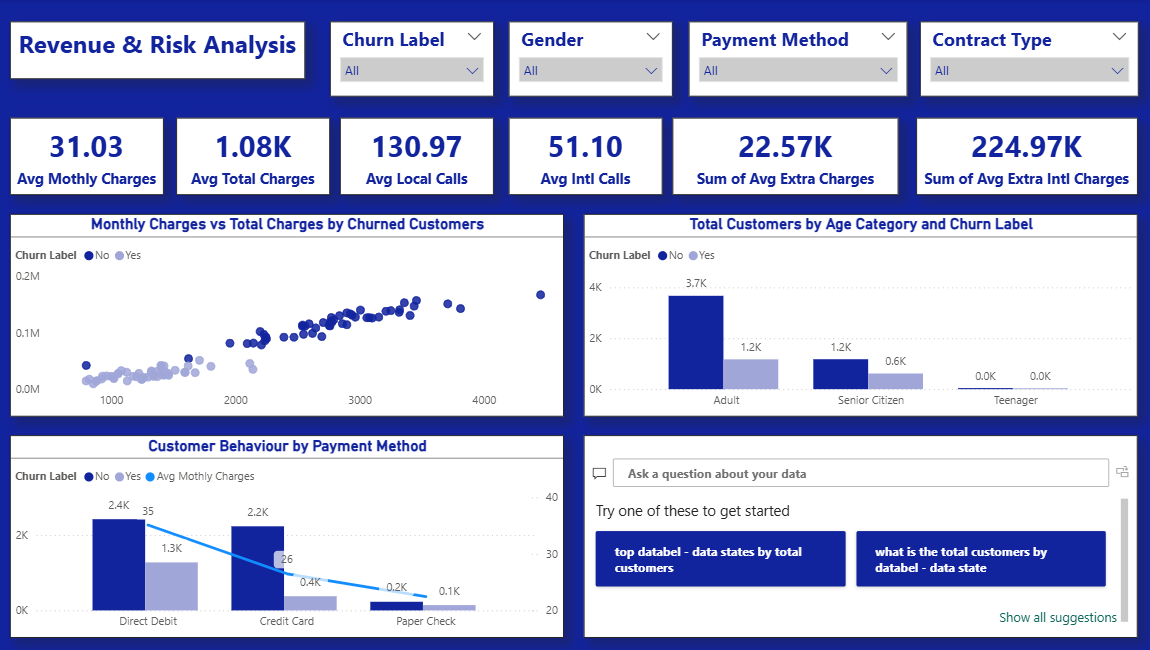

The page's visual inventory and layout, read from the dashboard file:
{"tool":"powerbi","page":{"name":"Revenue & Risk Analysis","canvas":[1280,720],"ordinal":2},"visuals":[{"type":"textbox","box":[22,24.7,323.8,63.1],"z":0},{"type":"slicer","fields":{"Values":["Databel - Data.Churn Label"]},"box":[373.2,24.7,179.8,82.3],"z":1000},{"type":"slicer","fields":{"Values":["Databel - Data.Gender"]},"box":[569.5,24.7,179.8,82.3],"z":2000},{"type":"slicer","fields":{"Values":["Databel - Data.Payment Method"]},"box":[767.1,24.7,240.1,82.3],"z":3000},{"type":"slicer","fields":{"Values":["Databel - Data.Contract Type"]},"box":[1020.9,24.7,240.1,82.3],"z":4000},{"type":"card","fields":{"Values":["Databel - Data.Avg Mothly Charges"]},"box":[22,130.4,168.8,85.1],"z":5000},{"type":"card","fields":{"Values":["Databel - Data.Avg Total Charges"]},"box":[204.5,130.4,168.8,85.1],"z":6000},{"type":"card","fields":{"Values":["Databel - Data.Avg Local Calls"]},"box":[384.2,130.4,168.8,85.1],"z":7000},{"type":"card","fields":{"Values":["Databel - Data.Avg Intl Calls"]},"box":[569.5,130.4,168.8,85.1],"z":8000},{"type":"card","fields":{"Values":["Sum(Databel - Data.Avg Extra Charges)"]},"box":[749.2,130.4,248.4,85.1],"z":9000},{"type":"card","fields":{"Values":["Sum(Databel - Data.Avg Extra Intl Charges)"]},"box":[1016.8,130.4,242.9,85.1],"z":10000},{"type":"scatterChart","title":"Monthly Charges vs Total Charges by Churned Customers","fields":{"Category":["Databel - Data.State"],"X":["Sum(Databel - Data.Monthly Charge)"],"Y":["Sum(Databel - Data.Total Charges)"],"Series":["Databel - Data.Churn Label"]},"box":[22,236,607.9,222.3],"z":11000},{"type":"clusteredColumnChart","fields":{"Category":["Databel - Data.Age Category"],"Y":["Databel - Data.Total Customers"],"Series":["Databel - Data.Churn Label"]},"box":[651.8,236,607.9,222.3],"z":12000},{"type":"lineClusteredColumnComboChart","title":"Customer Behaviour by Payment Method","fields":{"Category":["Databel - Data.Payment Method"],"Y":["Databel - Data.Total Customers"],"Y2":["Databel - Data.Avg Mothly Charges"],"Series":["Databel - Data.Churn Label"]},"box":[22,478.9,607.9,222.3],"z":13000},{"type":"qnaVisual","box":[652,479,608,222],"z":14000}]}

Visuals, with their boxes in screenshot pixels (x1, y1, x2, y2), scaled from the page's 1280x720 canvas onto the 1150x650 screenshot:
textbox: [x1=20, y1=22, x2=311, y2=79]
slicer - Databel - Data.Churn Label: [x1=335, y1=22, x2=497, y2=97]
slicer - Databel - Data.Gender: [x1=512, y1=22, x2=673, y2=97]
slicer - Databel - Data.Payment Method: [x1=689, y1=22, x2=905, y2=97]
slicer - Databel - Data.Contract Type: [x1=917, y1=22, x2=1133, y2=97]
card - Databel - Data.Avg Mothly Charges: [x1=20, y1=118, x2=171, y2=195]
card - Databel - Data.Avg Total Charges: [x1=184, y1=118, x2=335, y2=195]
card - Databel - Data.Avg Local Calls: [x1=345, y1=118, x2=497, y2=195]
card - Databel - Data.Avg Intl Calls: [x1=512, y1=118, x2=663, y2=195]
card - Sum(Databel - Data.Avg Extra Charges): [x1=673, y1=118, x2=896, y2=195]
card - Sum(Databel - Data.Avg Extra Intl Charges): [x1=914, y1=118, x2=1132, y2=195]
"Monthly Charges vs Total Charges by Churned Customers" scatterChart: [x1=20, y1=213, x2=566, y2=414]
clusteredColumnChart - Databel - Data.Age Category x Databel - Data.Total Customers: [x1=586, y1=213, x2=1132, y2=414]
"Customer Behaviour by Payment Method" lineClusteredColumnComboChart: [x1=20, y1=432, x2=566, y2=633]
qnaVisual: [x1=586, y1=432, x2=1132, y2=633]
